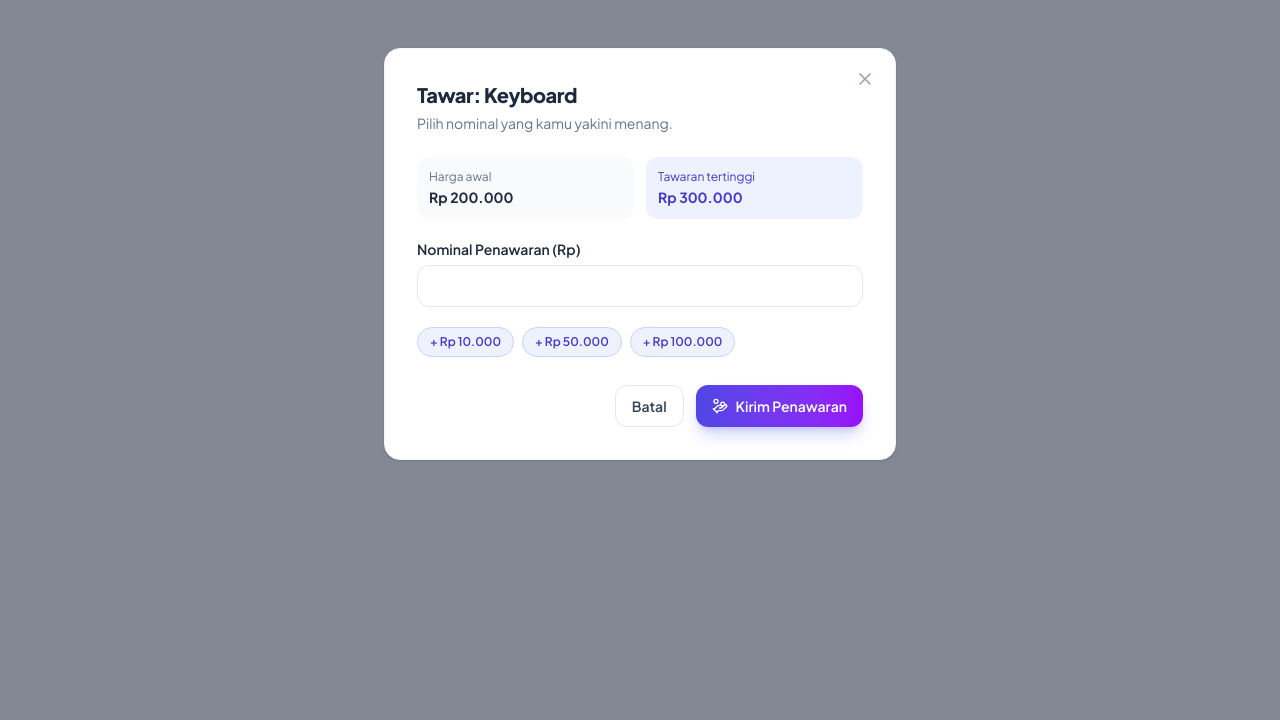
Test: BidModal › menolak nominal yang tidak lebih tinggi dari tawaran tertinggi
Type "300000" into the number field with id "bid-amount" at (640, 286), box top-left (417, 265), bottom-right (863, 307)
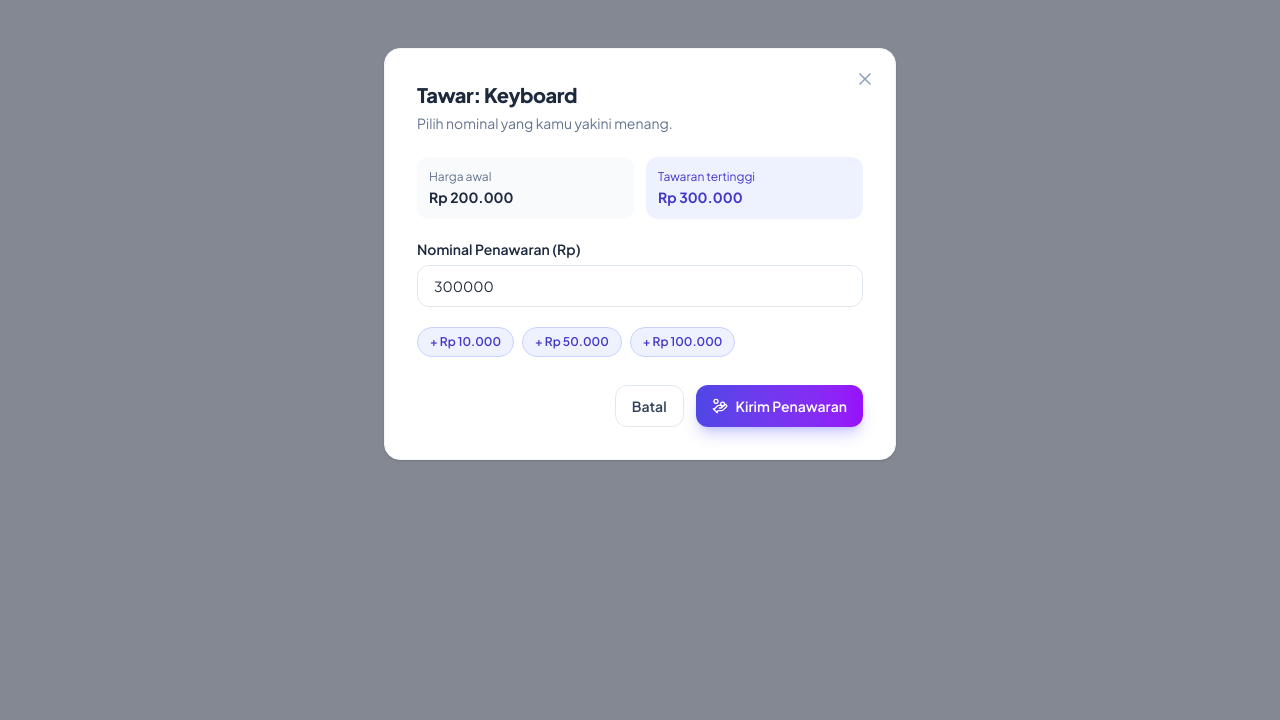
Submit the form, box top-left (417, 157), bottom-right (863, 427)
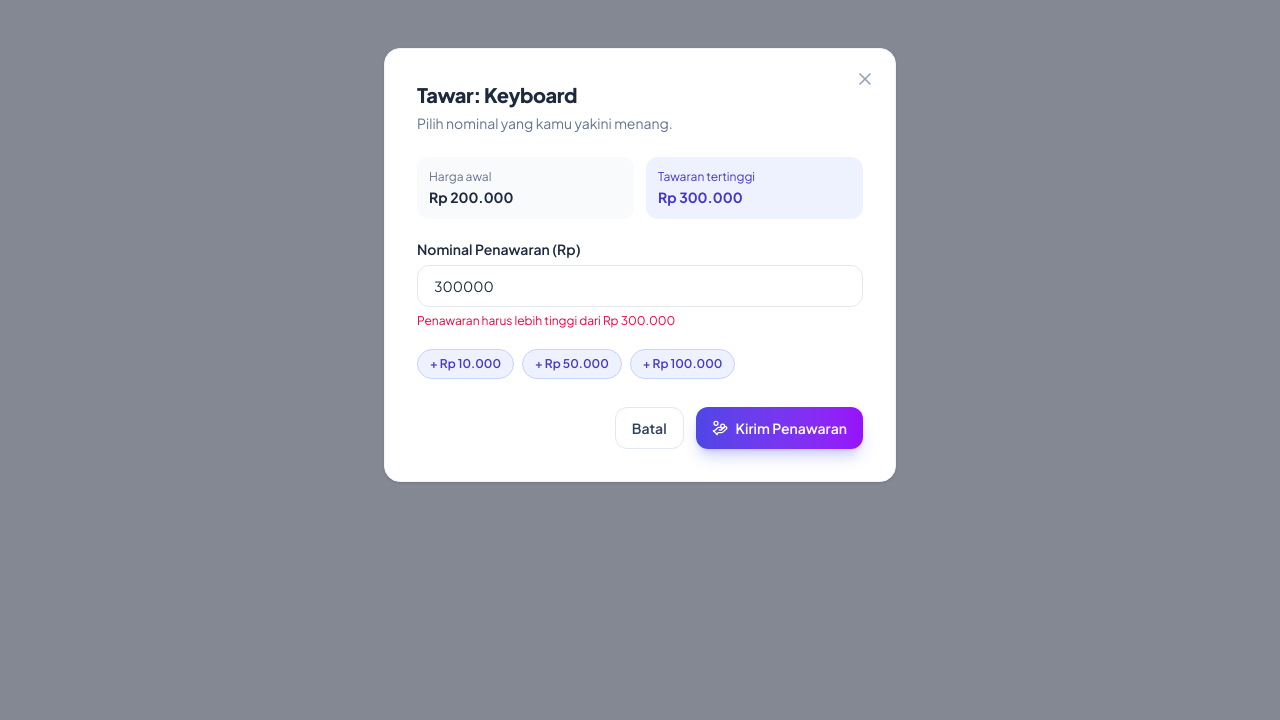
expect the text "Penawaran harus lebih tinggi dari" is shown: met, box top-left (417, 313), bottom-right (675, 328)
